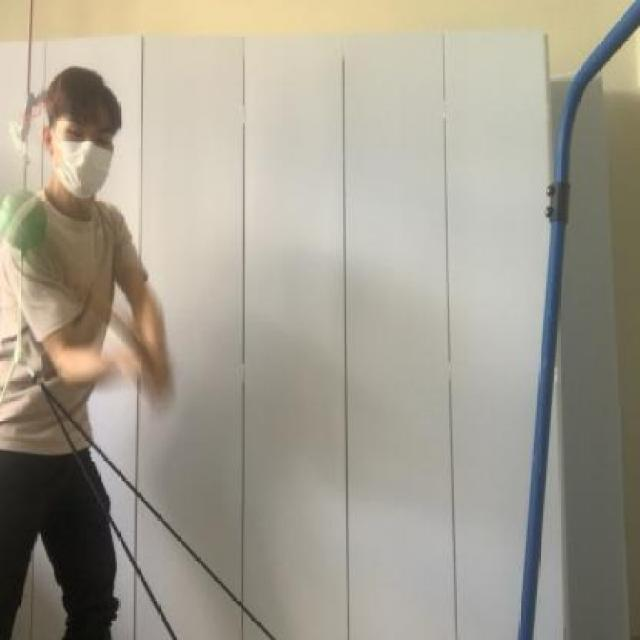baseball: (0, 184, 58, 261)
